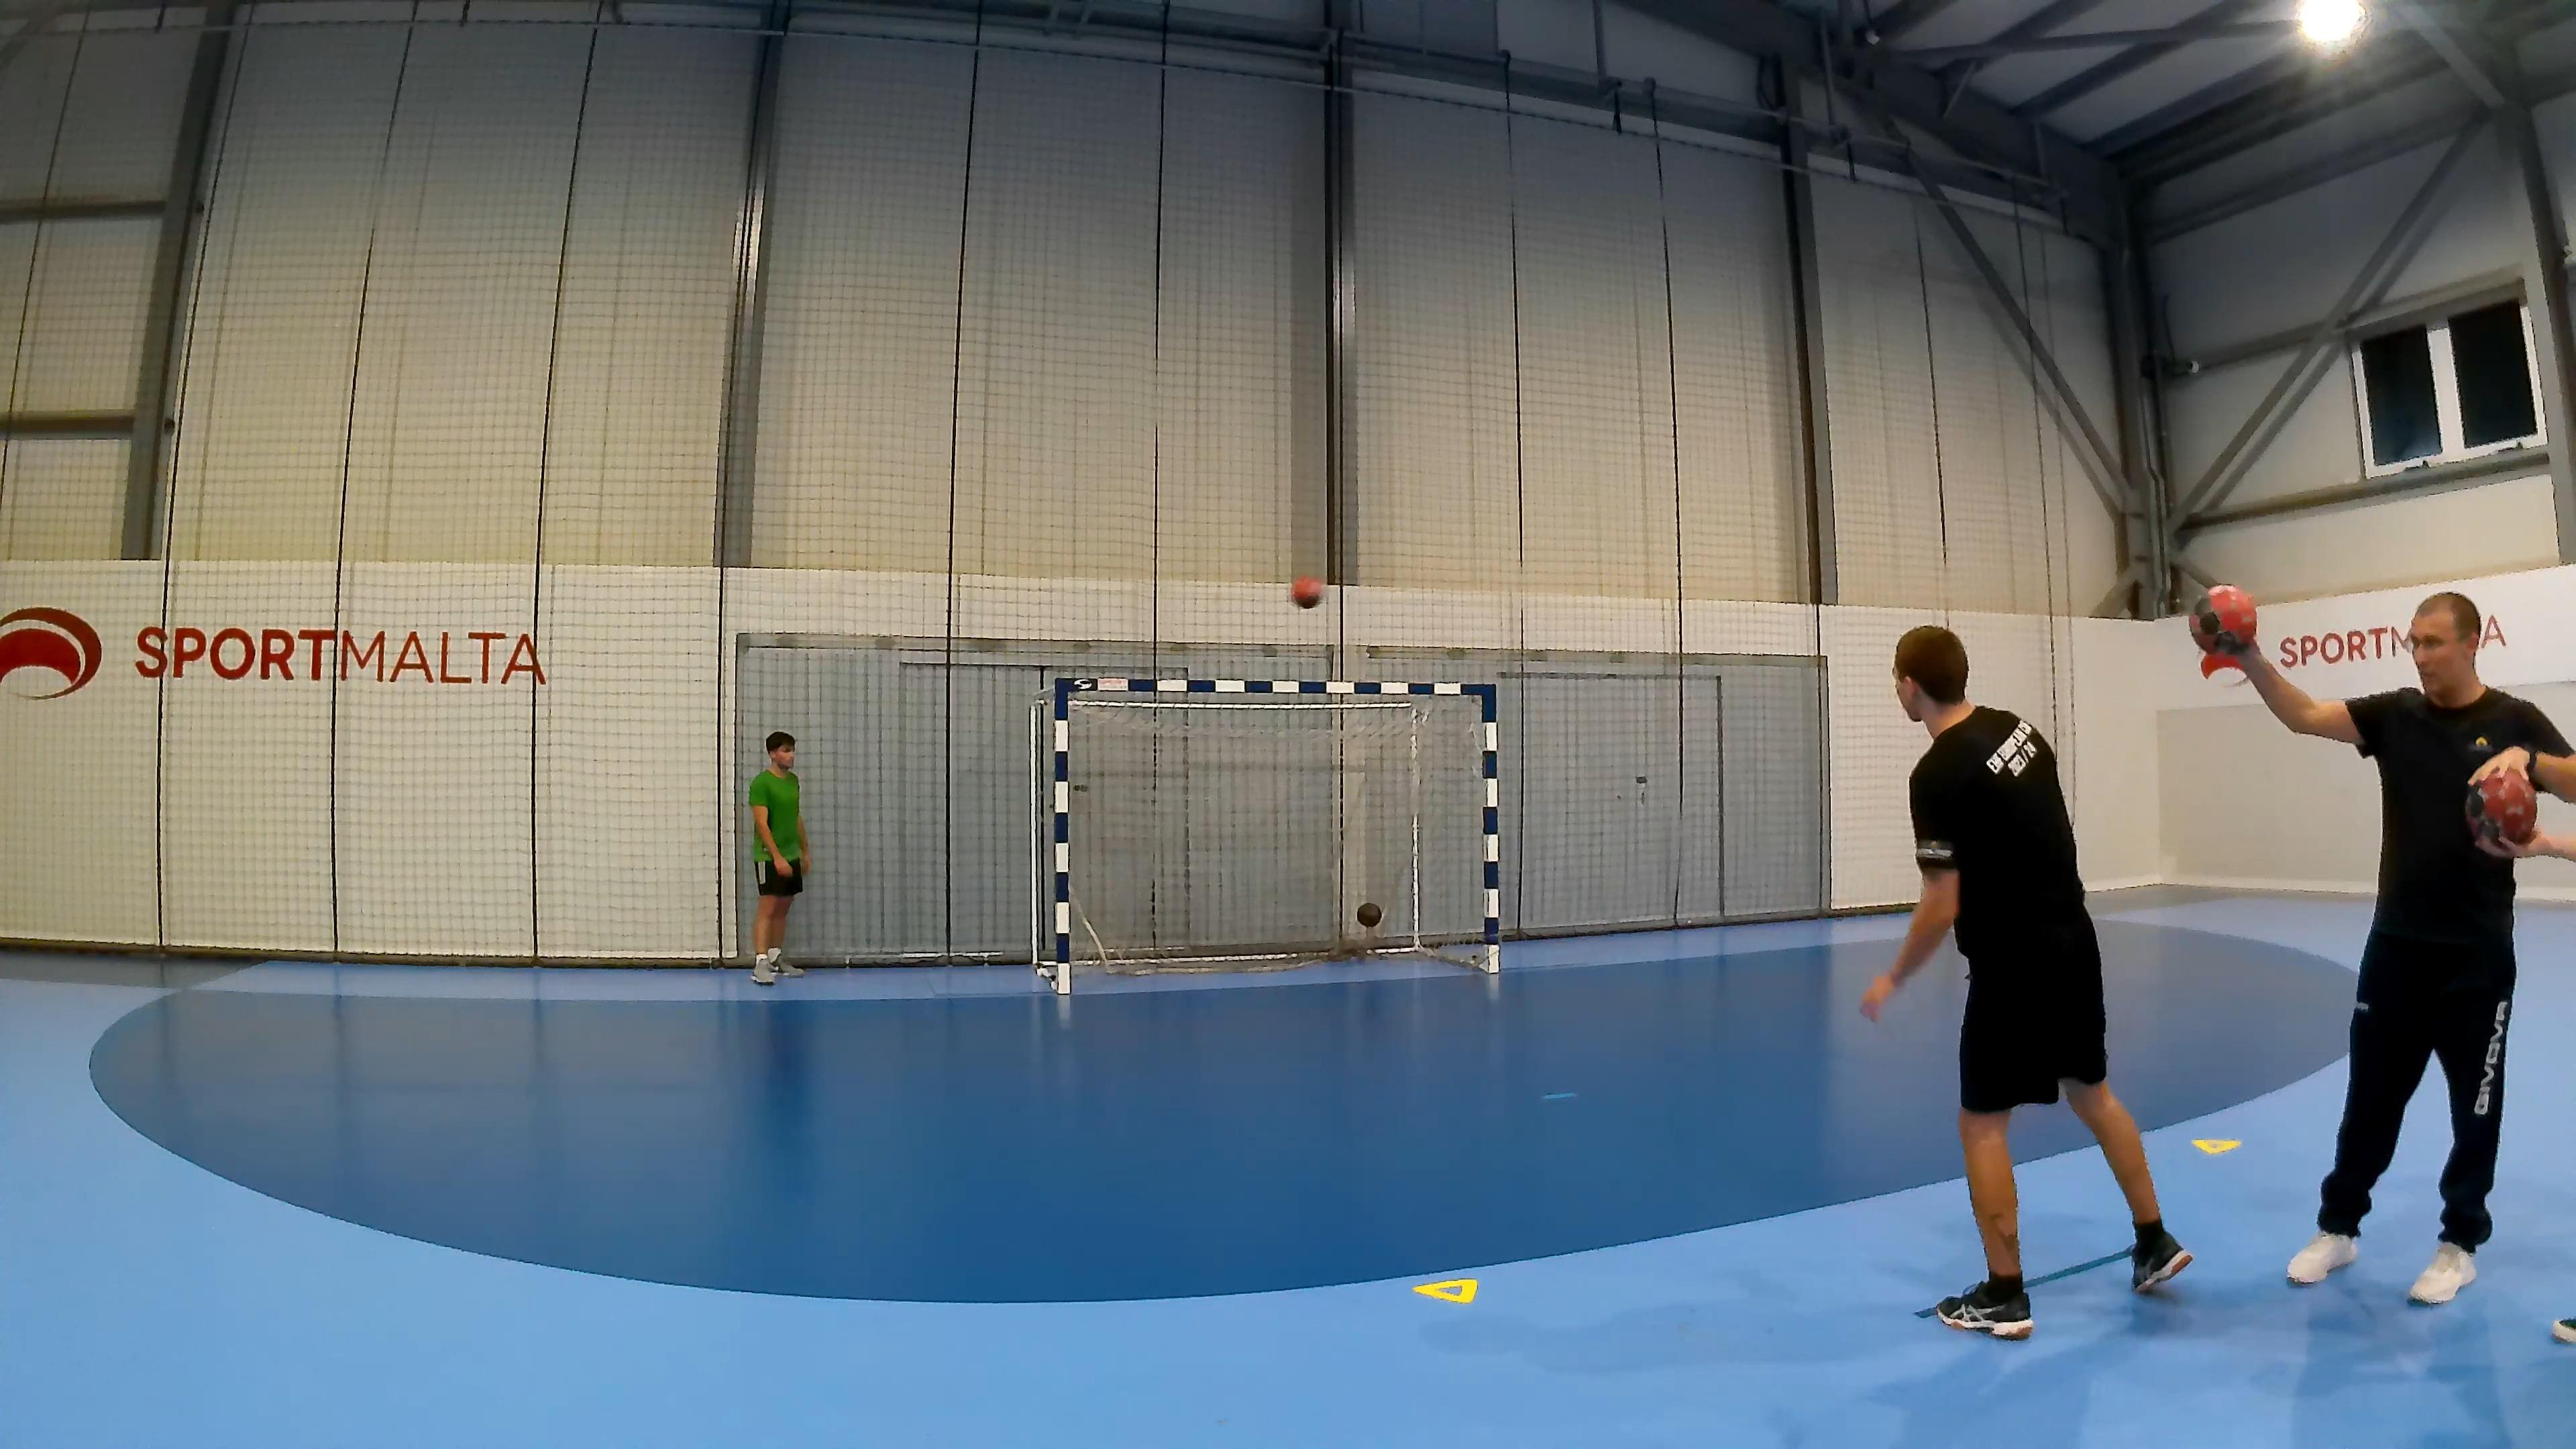handball: (2475, 764, 2537, 844), (2192, 582, 2256, 653), (1355, 901, 1389, 938), (1292, 575, 1322, 609)
